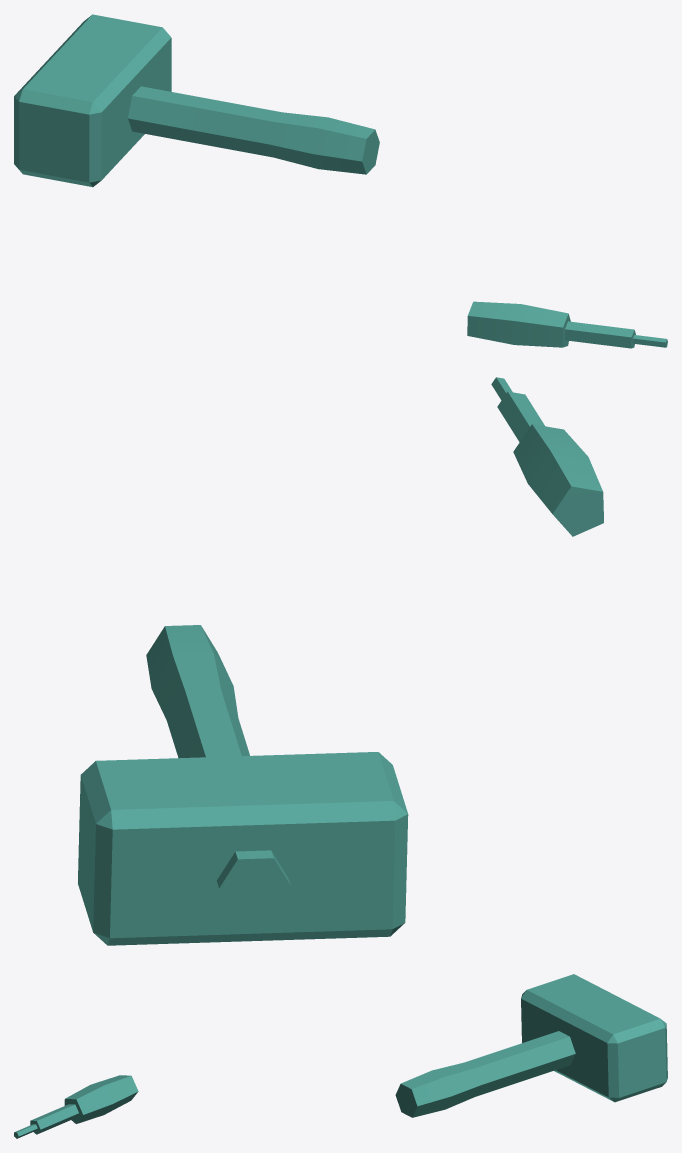
The model's file is Martillo.fbx.
3 views of the same model, one above another, from view 1: azimuth 30°, elevation 25°; view 2: azimuth 150°, elevation 25°; view 3: azimuth 270°, elevation 25° (orthographic). The views are drawn at different scales.
Parts seen in each view (by area): view 1: pCube209, pCylinder165; view 2: pCube209, pCylinder165; view 3: pCube209, pCylinder165.
Boxes of the visible parts, left/top/right/bottom form: pCube209: left=14, top=14, right=379, bottom=187; pCylinder165: left=467, top=301, right=667, bottom=348; pCube209: left=78, top=625, right=408, bottom=945; pCylinder165: left=491, top=377, right=603, bottom=536; pCube209: left=395, top=974, right=667, bottom=1117; pCylinder165: left=14, top=1075, right=138, bottom=1138.
Bounding box in the file's own units: 0.2912 × 0.0847 × 0.705.
